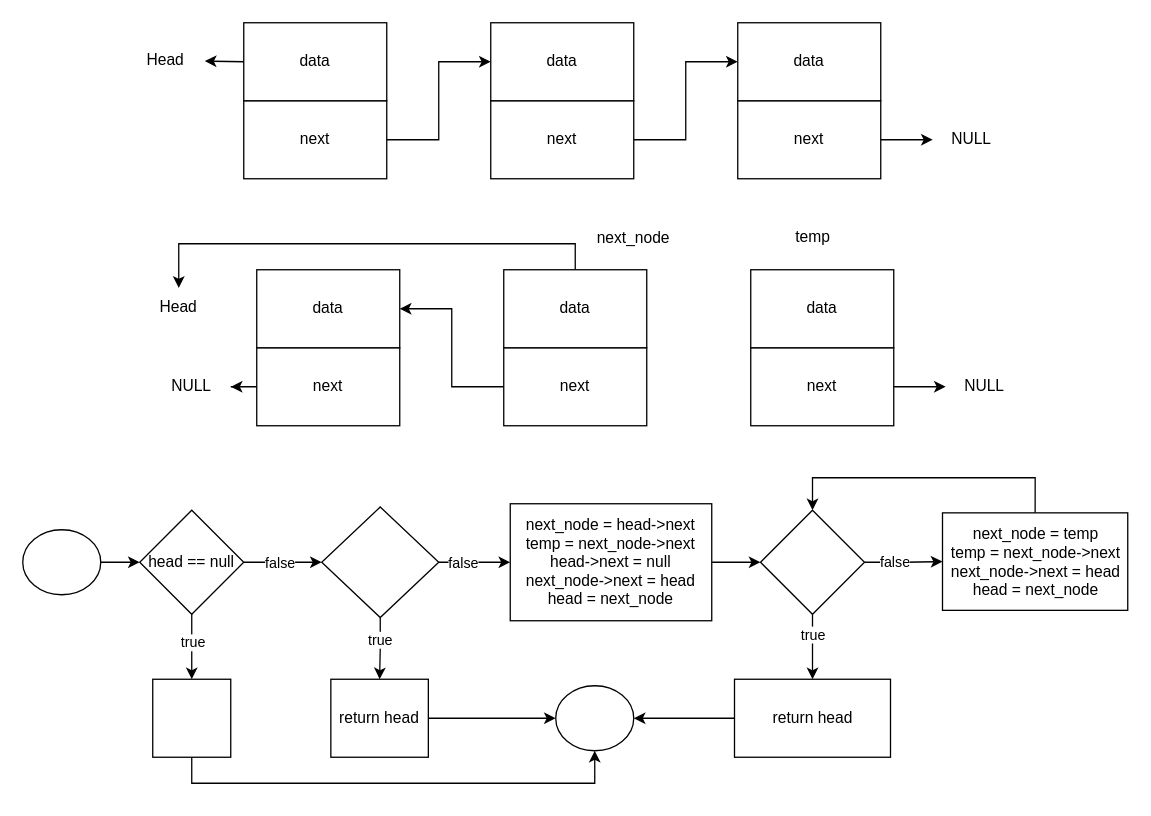
Some shapes in this 1151 by 816 pixel diagram are drawn without their labels. The shapes that lost their labels are listed below. From the top down, each one's centre as x and y in pixels, then its label:
At point 61,561: "start".
At point 379,562: "head->next == null".
At point 811,561: "temp == null".
At point 191,717: "return null".
At point 594,717: "end".
